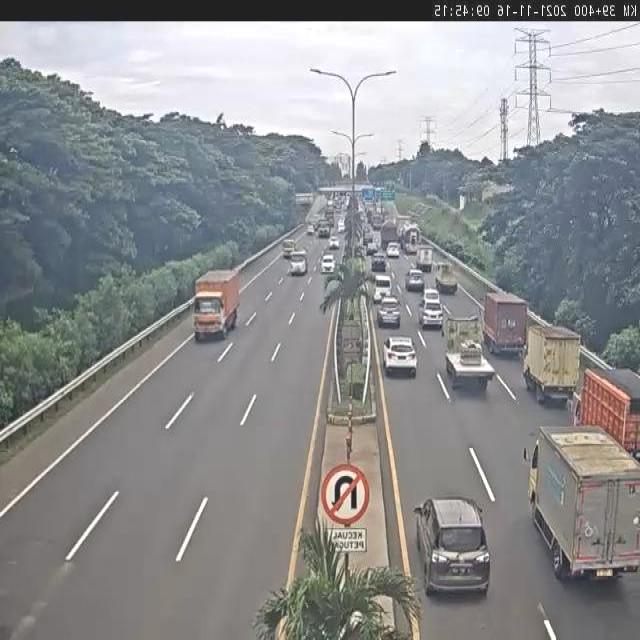Car: (412, 498, 489, 593), (382, 336, 417, 377), (374, 295, 402, 332), (403, 268, 428, 296), (419, 298, 441, 326), (316, 253, 338, 281), (370, 249, 391, 272), (326, 230, 342, 250), (384, 242, 400, 258)
Truck: (530, 425, 640, 581), (573, 370, 639, 467), (523, 320, 581, 406), (191, 268, 243, 350), (444, 310, 495, 391), (481, 290, 526, 357), (433, 261, 457, 293), (402, 222, 426, 250), (380, 219, 399, 251), (415, 247, 436, 270)
Van: (369, 275, 393, 303)
